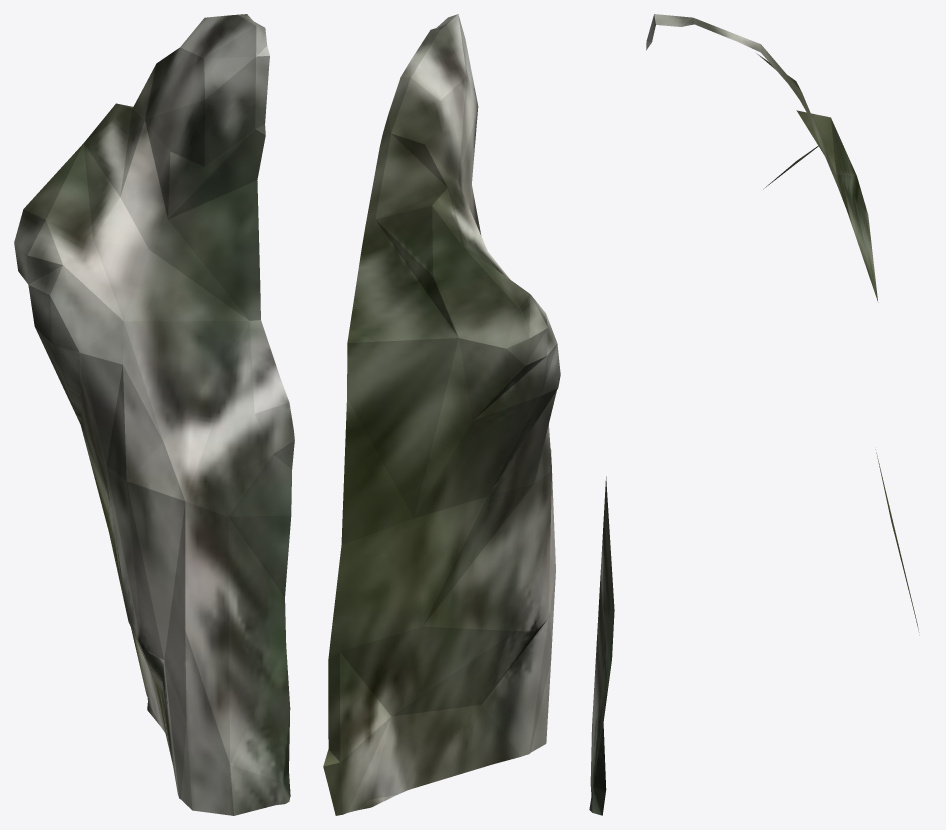
3 renders of one model, left to right at view 1: azimuth 30°, elevation 25°; view 2: azimuth 150°, elevation 25°; view 3: azimuth 270°, elevation 25°, orthographic. The views are drawn at different scales.
Bounding box in the file's own units: 0.4608 × 1.94 × 0.7561.
1 material, 1 textured.
